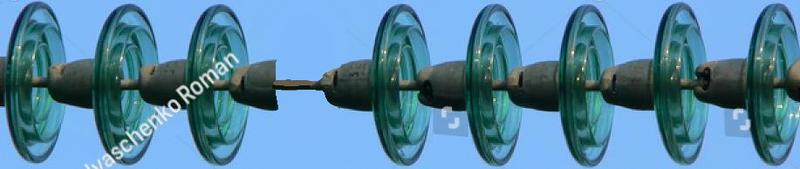gap: (180, 1, 436, 169)
